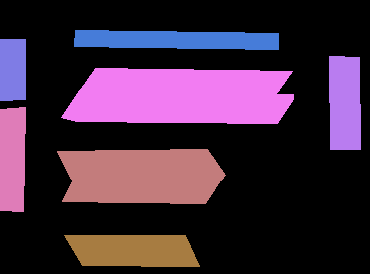parkingspot: (61, 90, 293, 123), (79, 68, 292, 95), (57, 149, 225, 180), (64, 235, 199, 266), (62, 177, 222, 203), (74, 30, 278, 49), (329, 56, 360, 149), (0, 107, 25, 211), (0, 39, 25, 100)
